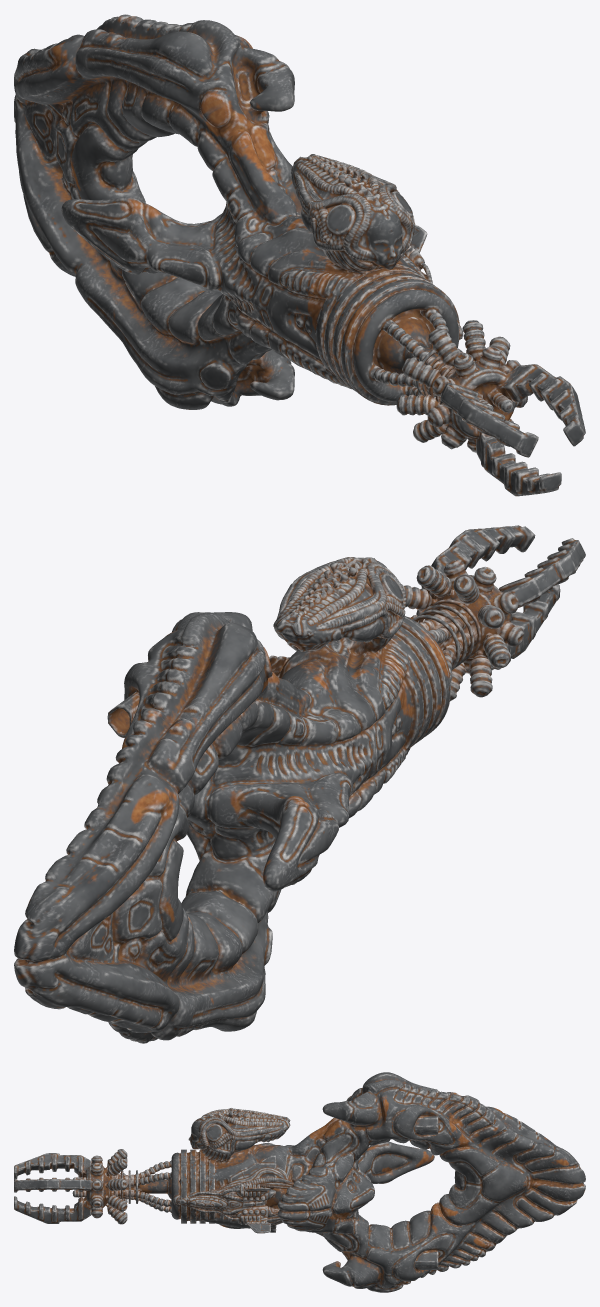
Rendered from arcmaw.glb.
3 views of the same model, one above another, from view 1: azimuth 30°, elevation 25°; view 2: azimuth 150°, elevation 25°; view 3: azimuth 270°, elevation 25° (orthographic). The views are drawn at different scales.
Visible parts, largest first — view 1: Box_0; view 2: Box_0; view 3: Box_0.
Part boxes in pixels (x1,y1,x2,y2): Box_0: (14, 14, 585, 496); Box_0: (14, 525, 585, 1043); Box_0: (14, 1072, 585, 1292).
Bounding box in the file's own units: 2.48 × 4.18 × 10.24.
Materials: 1 (1 with a texture image).
